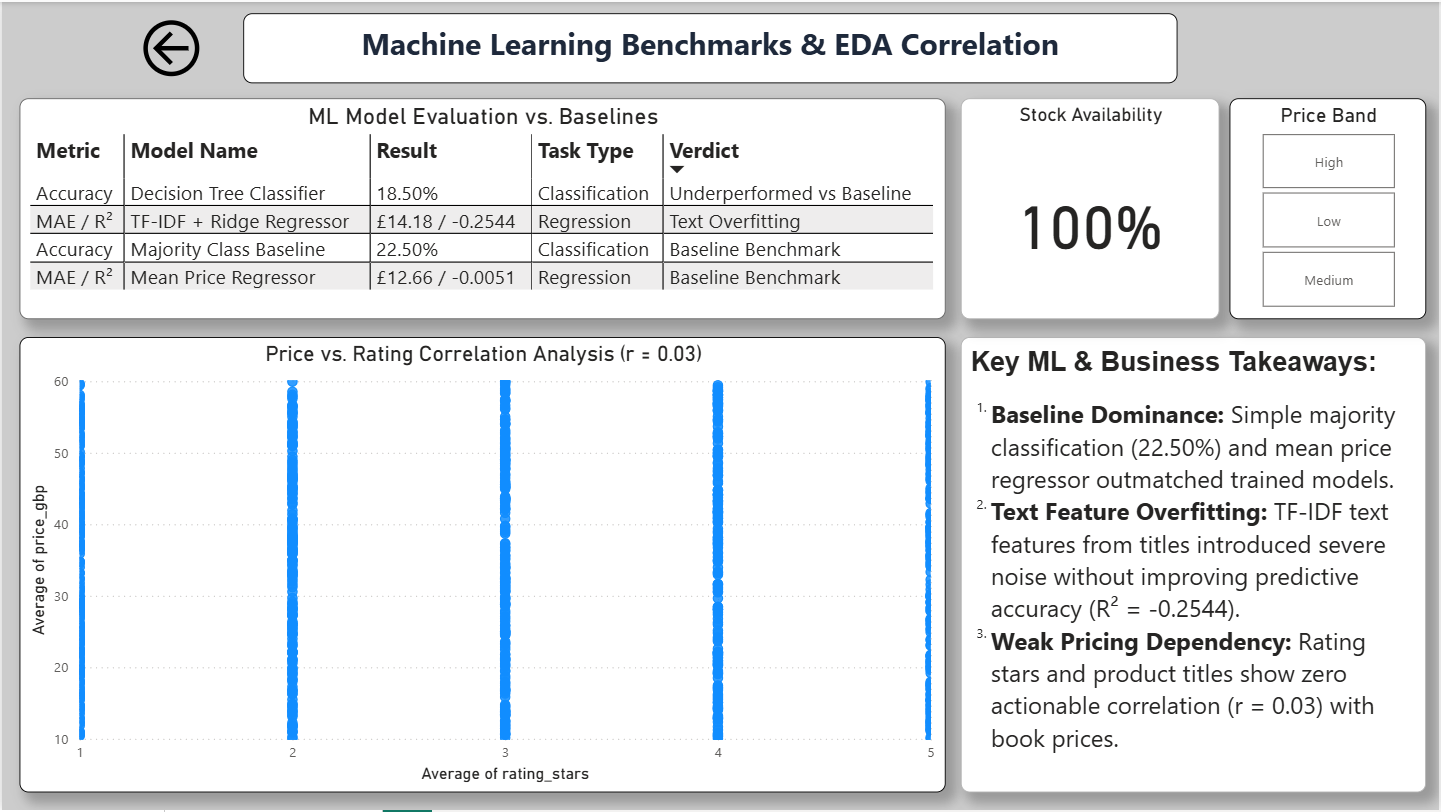

The dashboard page shown, as its layout file describes it:
{"tool":"powerbi","page":{"name":"Deep Dive & ML Insights","canvas":[1280,720],"ordinal":1},"visuals":[{"type":"tableEx","title":"ML Model Evaluation vs. Baselines","fields":{"Values":["ML_Model_Performance.Metric","ML_Model_Performance.Model Name","ML_Model_Performance.Result","ML_Model_Performance.Task Type","ML_Model_Performance.Verdict"]},"box":[15.9,85.5,824.6,197.1],"z":0},{"type":"scatterChart","title":"Price vs. Rating Correlation Analysis (r = 0.03)","fields":{"X":["Avg(clean_books_data.rating_stars)"],"Y":["Avg(clean_books_data.price_gbp)"],"Category":["clean_books_data.title"]},"box":[15.9,298.6,824.6,405.8],"z":1000},{"type":"textbox","box":[214.5,10.1,831.9,62.3],"z":2000},{"type":"actionButton","box":[107.2,10.1,88.4,62.3],"z":3000},{"type":"textbox","box":[853.6,298.6,414.5,405.8],"z":4000},{"type":"card","title":"Stock Availability","fields":{"Values":["Avg(clean_books_data.in_stock_flag)"]},"box":[853.6,85.5,230.4,197.1],"z":5000},{"type":"slicer","title":"Price Band","fields":{"Values":["clean_books_data.price_band"]},"box":[1092.8,85.5,175.4,197.1],"z":6000}]}

Visuals, with their boxes in screenshot pixels (x1, y1, x2, y2), scaled from the page's 1280x720 canvas onto the 1441x812 screenshot:
"ML Model Evaluation vs. Baselines" tableEx: {"x1": 18, "y1": 96, "x2": 946, "y2": 319}
"Price vs. Rating Correlation Analysis (r = 0.03)" scatterChart: {"x1": 18, "y1": 337, "x2": 946, "y2": 794}
textbox: {"x1": 241, "y1": 11, "x2": 1178, "y2": 82}
actionButton: {"x1": 121, "y1": 11, "x2": 220, "y2": 82}
textbox: {"x1": 961, "y1": 337, "x2": 1428, "y2": 794}
"Stock Availability" card: {"x1": 961, "y1": 96, "x2": 1220, "y2": 319}
"Price Band" slicer: {"x1": 1230, "y1": 96, "x2": 1428, "y2": 319}
